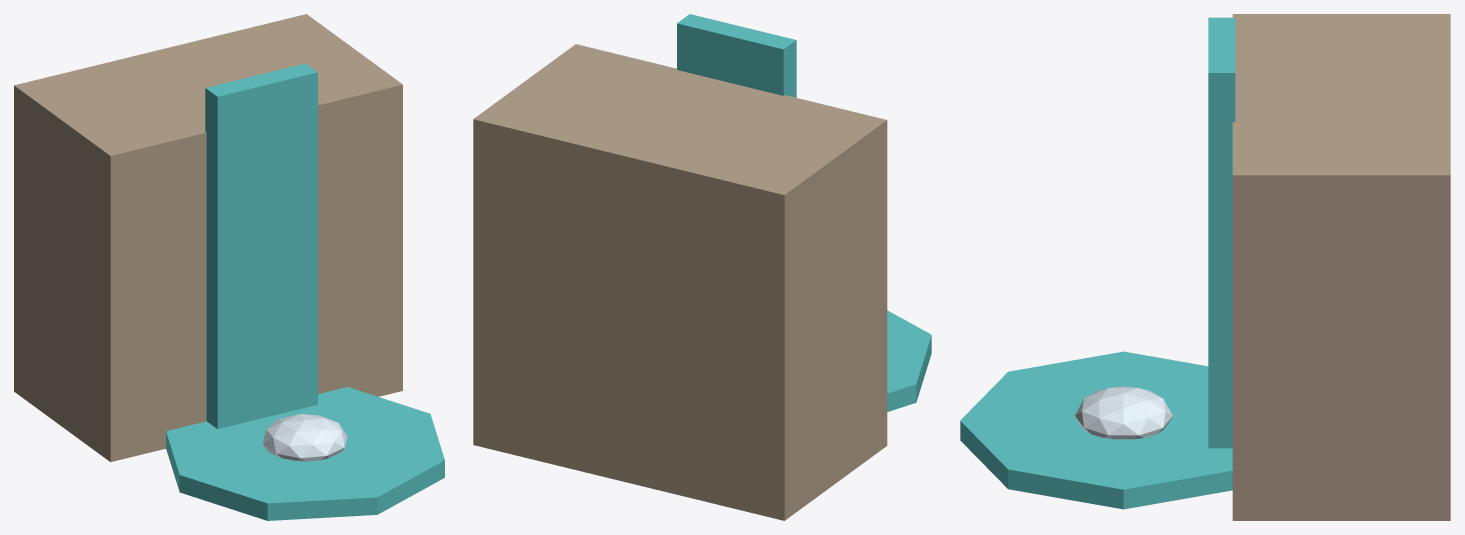
The model's file is waterfall-slab.glb.
The picture shows the model from 3 angles, left to right: view 1: azimuth 30°, elevation 25°; view 2: azimuth 150°, elevation 25°; view 3: azimuth 270°, elevation 25°; orthographic projection. The views are drawn at different scales.
Parts seen in each view (by area): view 1: jungle-waterfall-slab; view 2: jungle-waterfall-slab; view 3: jungle-waterfall-slab.
Boxes of the visible parts, x1,y1,x2,y2 form: jungle-waterfall-slab: [14, 14, 444, 520]; jungle-waterfall-slab: [473, 14, 931, 520]; jungle-waterfall-slab: [960, 14, 1450, 520].
Bounding box in the file's own units: 0.7 × 0.8 × 0.9.
